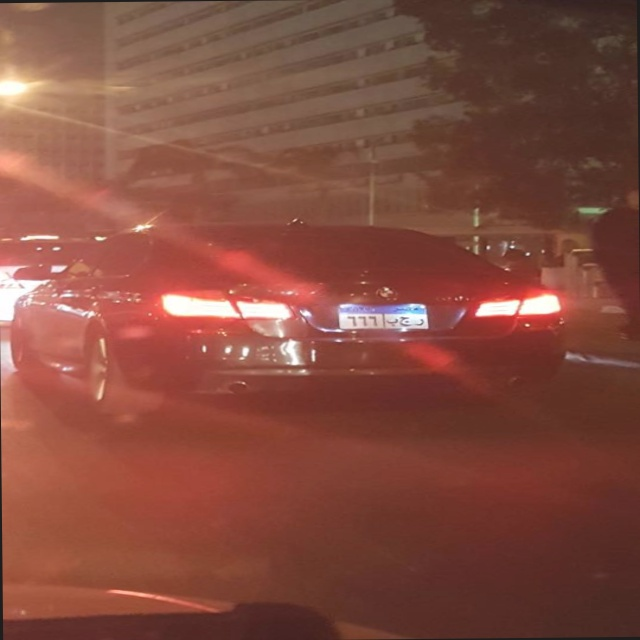License Plate: (335, 303, 432, 331)
